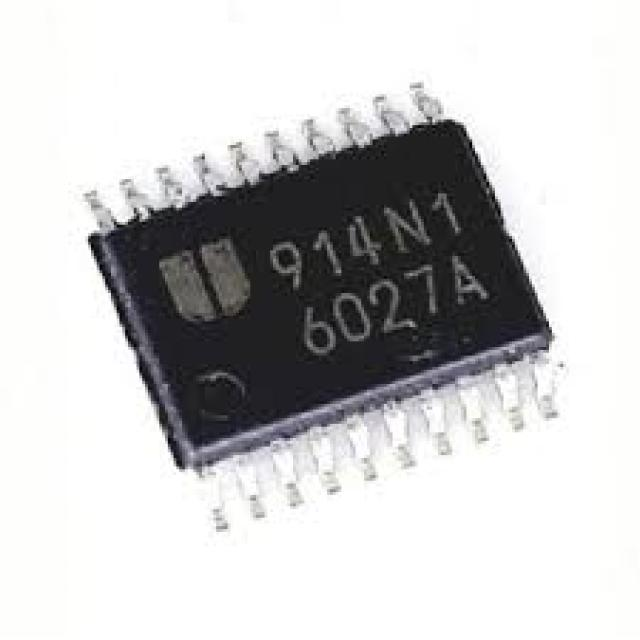IC: (80, 84, 563, 536)
